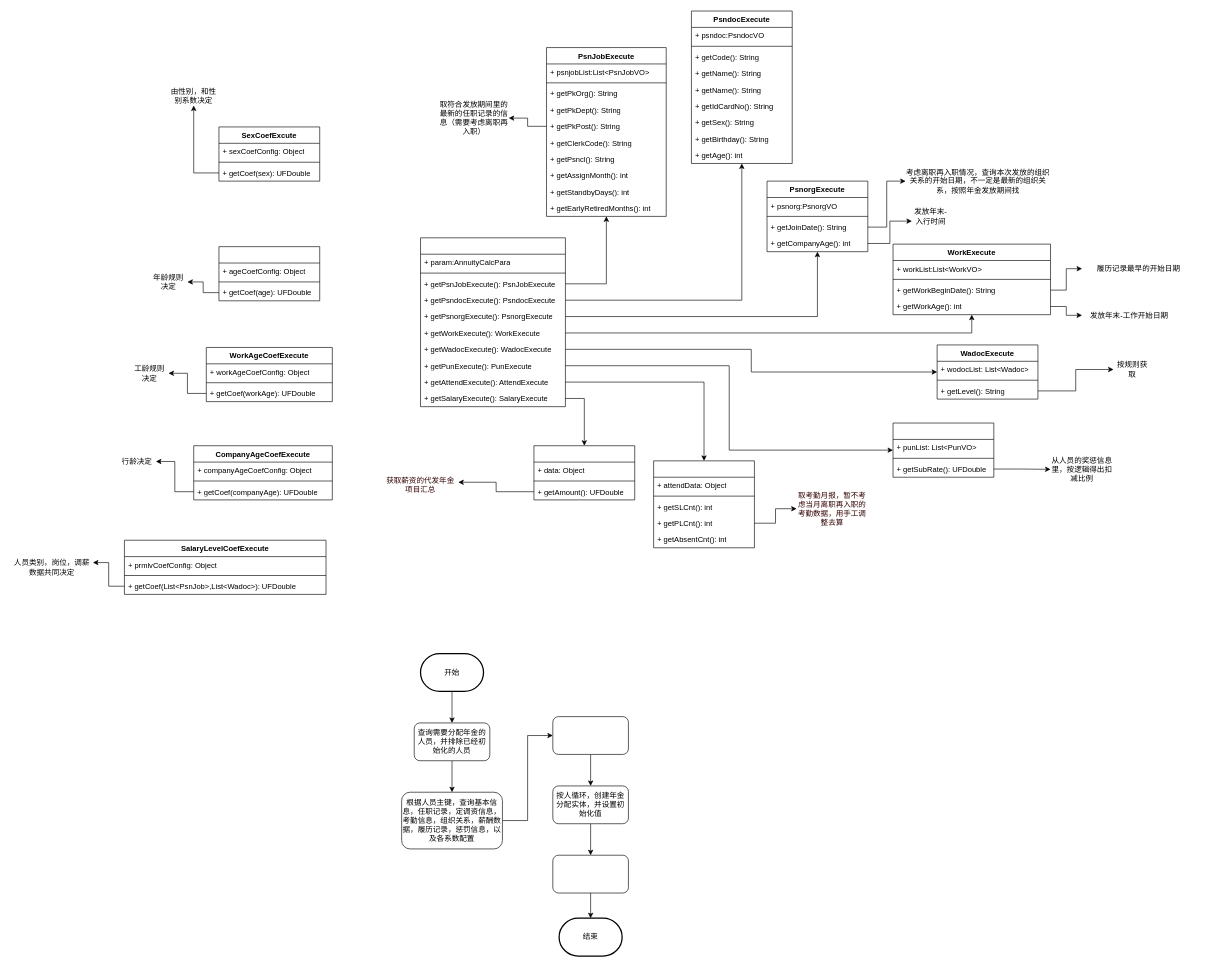
The diagram is 1206 pixels wide and 968 high, and some of its shapes have lost their labels. Here are the shapes that lost their labels. From the top down, the box of each, then its label:
(218, 246, 320, 301): AgeCoefExecute
(420, 237, 565, 407): AnnuityExecuteFactory
(892, 422, 994, 477): PunExecute
(533, 445, 635, 500): SalaryExecute
(653, 460, 754, 548): AttendExecute
(552, 716, 628, 754): 为每个人创建一个年金分配执行器
(552, 855, 628, 893): 保存到数据库
